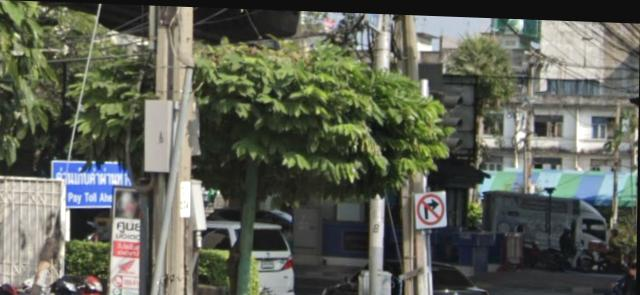not_turn_right: (414, 189, 447, 226)
